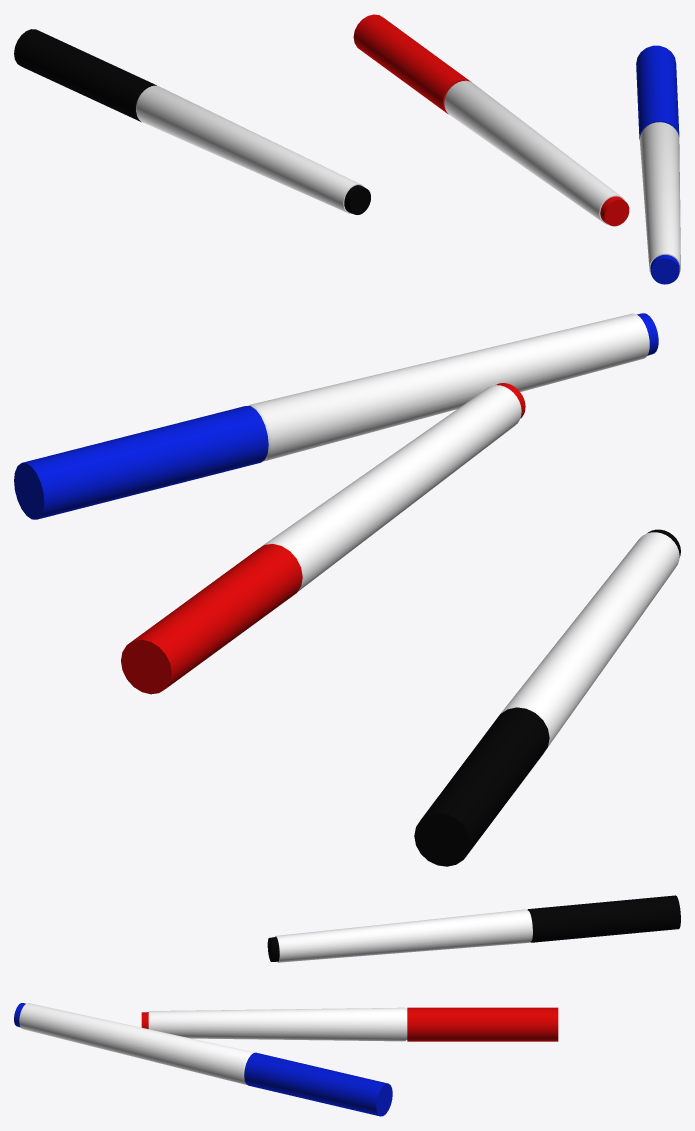
The model's file is Pens.FBX.
The picture shows the model from 3 angles, top to bottom: view 1: azimuth 30°, elevation 25°; view 2: azimuth 150°, elevation 25°; view 3: azimuth 270°, elevation 25°; orthographic projection. The views are drawn at different scales.
Parts seen in each view (by area): view 1: Marker 3, Marker 1, Marker 2; view 2: Marker 2, Marker 1, Marker 3; view 3: Marker 3, Marker 1, Marker 2.
Part boxes in pixels (x1=…): Marker 3: x1=14, y1=29, x2=370, y2=214; Marker 1: x1=353, y1=14, x2=629, y2=226; Marker 2: x1=636, y1=45, x2=680, y2=284; Marker 2: x1=14, y1=313, x2=658, y2=519; Marker 1: x1=121, y1=383, x2=525, y2=694; Marker 3: x1=414, y1=529, x2=680, y2=866; Marker 3: x1=267, y1=895, x2=680, y2=962; Marker 1: x1=141, y1=1007, x2=558, y2=1041; Marker 2: x1=14, y1=1003, x2=392, y2=1116.
Bounding box in the file's own units: 164 × 230 × 11.6.
Materials: 1 (1 with a texture image).
